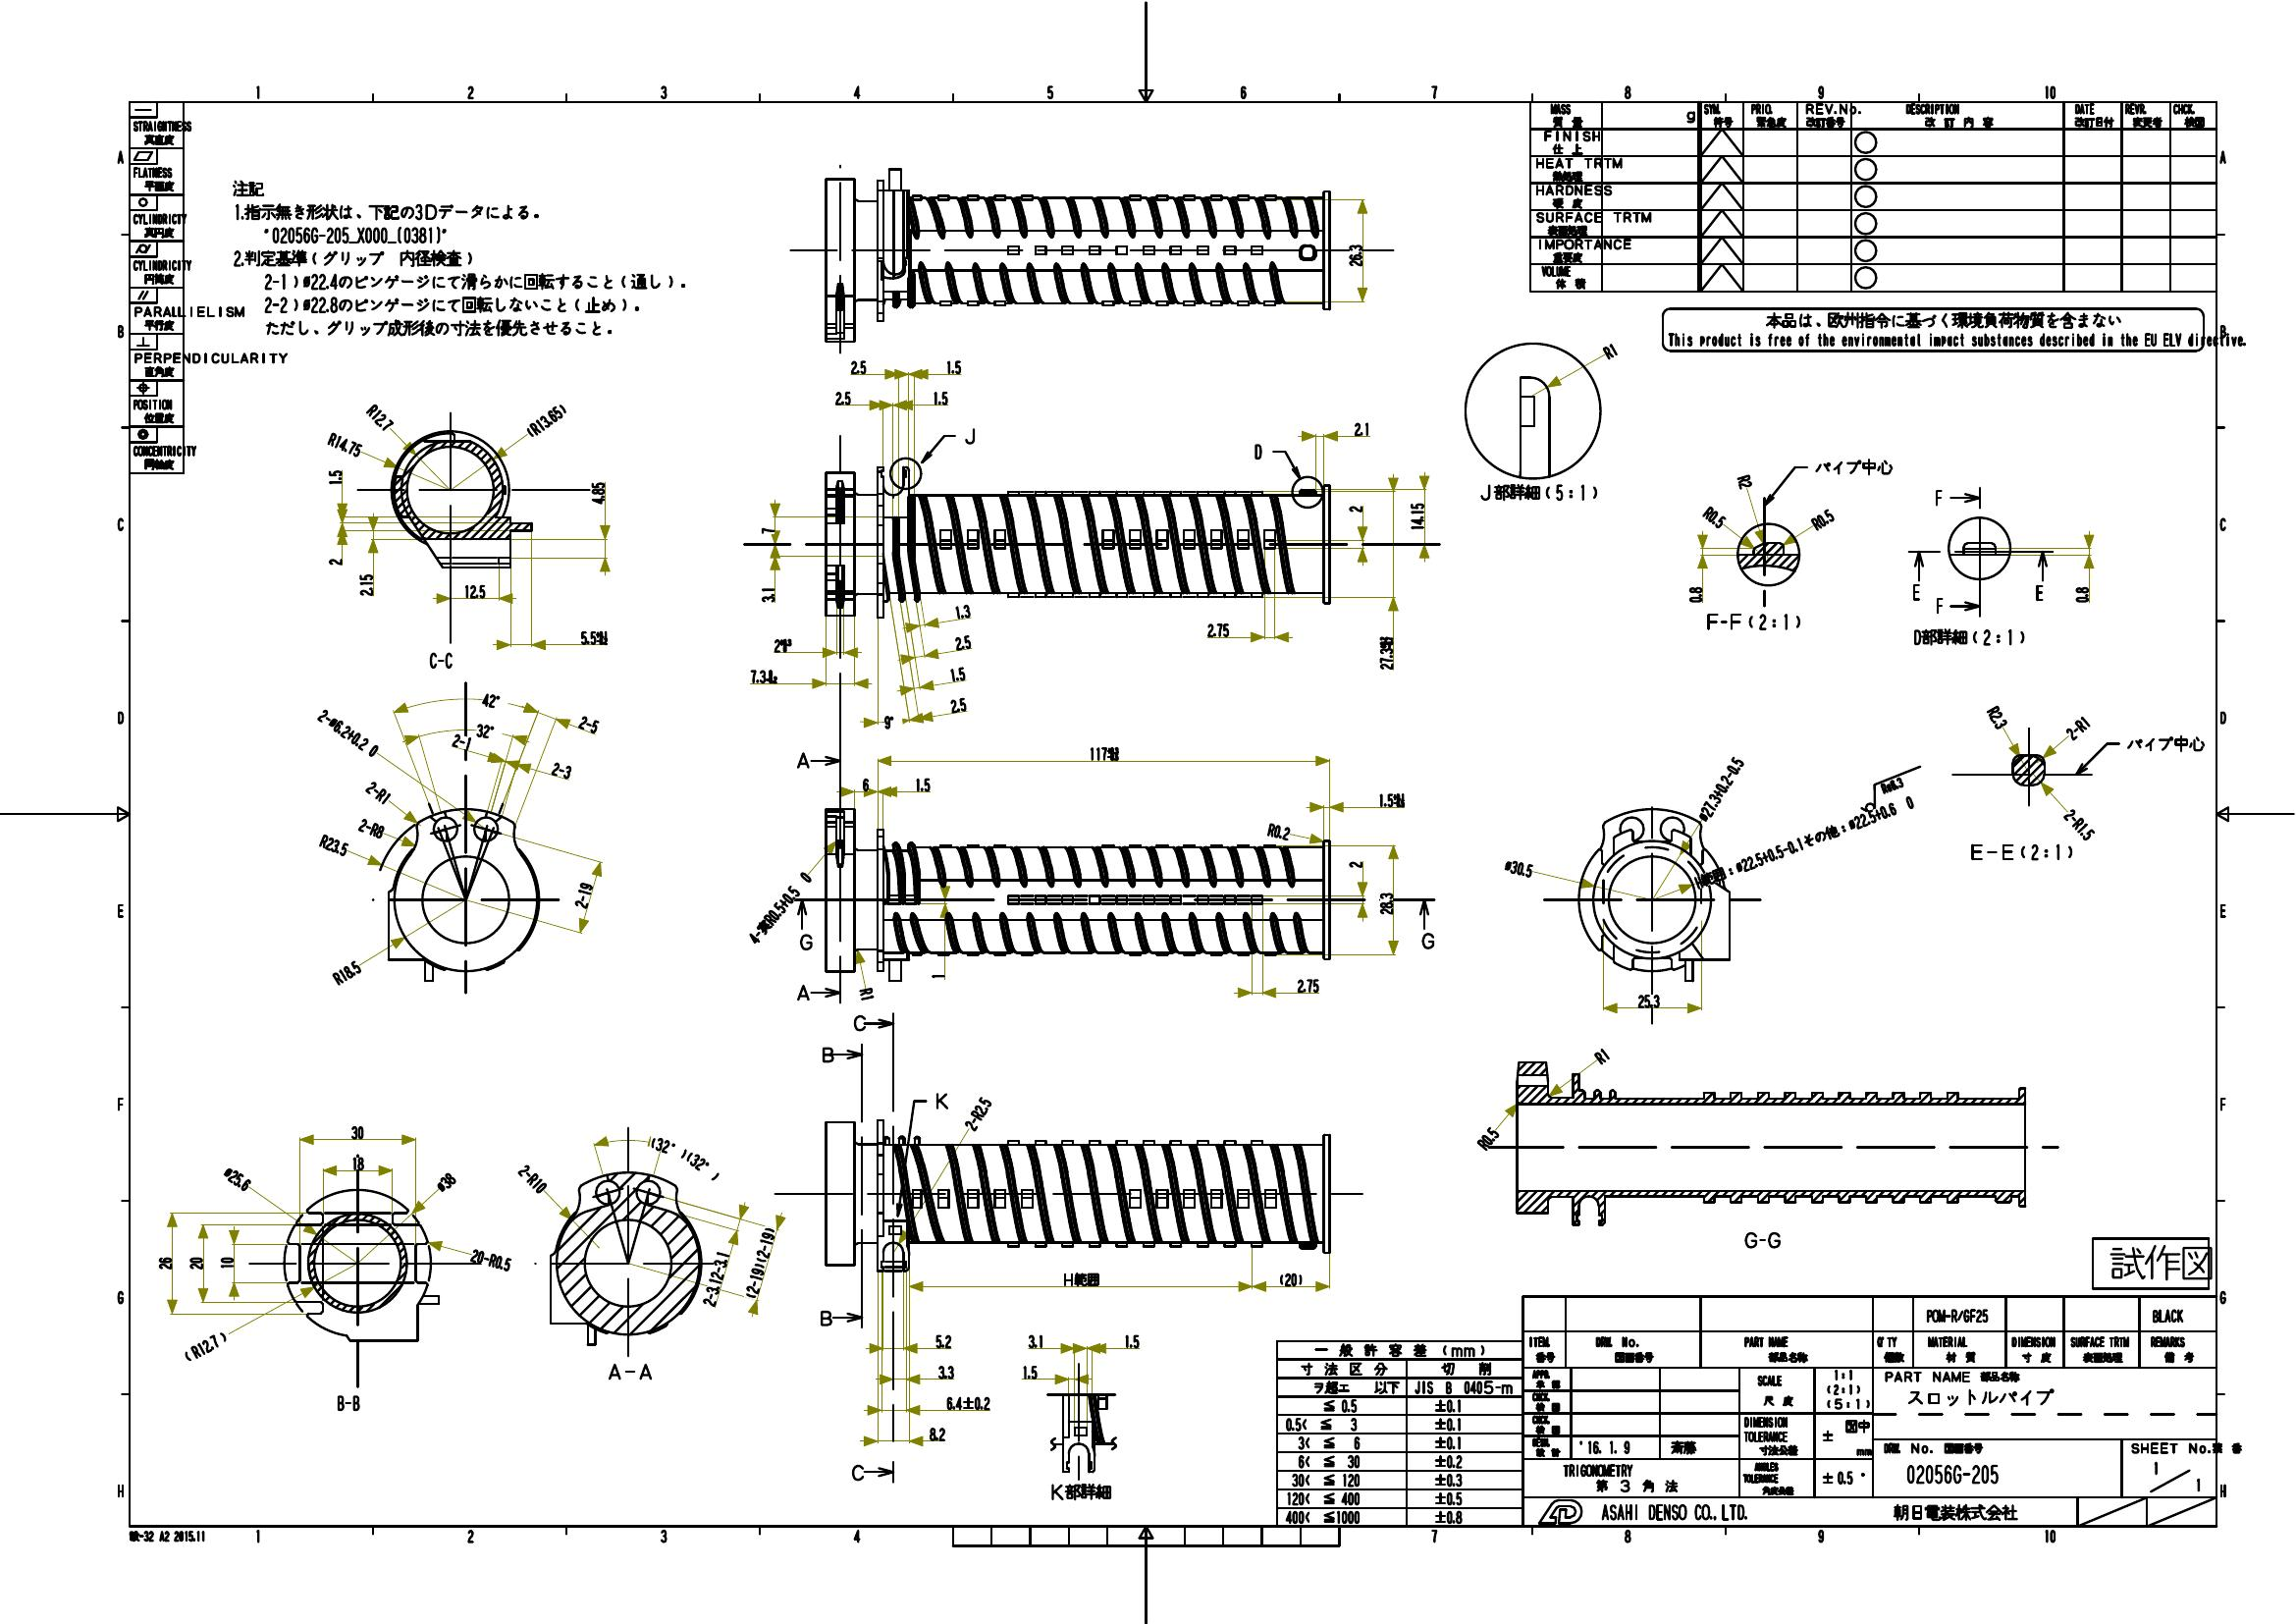anntotation_text: (230, 176, 687, 341), (1662, 309, 2203, 353), (2092, 1236, 2210, 1290), (1476, 482, 1600, 504), (1966, 840, 2073, 865), (1913, 626, 2025, 647), (1704, 610, 1804, 633), (1815, 457, 1897, 480), (2124, 735, 2208, 752), (128, 1527, 207, 1543), (1049, 1483, 1112, 1503), (606, 1362, 655, 1381), (1741, 1229, 1783, 1250), (1692, 868, 1736, 884), (1802, 826, 1846, 840), (1063, 1271, 1101, 1287), (427, 650, 457, 670), (1245, 441, 1268, 464), (336, 1394, 360, 1411), (792, 750, 812, 772), (1908, 580, 1924, 605), (1418, 930, 1437, 949), (798, 932, 815, 951), (792, 984, 812, 1002), (933, 1090, 949, 1111), (963, 427, 978, 446), (850, 1014, 866, 1032), (2031, 584, 2047, 601), (819, 1308, 833, 1327), (850, 1462, 864, 1482), (1932, 485, 1943, 508), (820, 1046, 834, 1062), (1931, 598, 1945, 613)
dimension_text: (1838, 779, 1932, 817), (734, 898, 824, 916), (645, 1146, 724, 1165), (1713, 750, 1730, 826), (754, 1227, 768, 1301), (1730, 849, 1802, 863), (313, 726, 383, 740), (708, 1250, 722, 1308), (179, 1339, 230, 1353), (471, 1251, 515, 1267), (945, 1396, 991, 1410), (523, 413, 569, 427), (970, 1093, 984, 1134), (1377, 634, 1393, 670), (364, 408, 395, 425), (1087, 747, 1121, 763), (578, 629, 611, 645), (2061, 817, 2097, 831), (748, 668, 780, 684), (515, 1174, 550, 1188), (327, 438, 362, 452), (1295, 977, 1323, 993), (1409, 501, 1423, 531), (362, 786, 392, 800), (1377, 889, 1393, 916), (1205, 622, 1231, 638), (1347, 243, 1363, 269), (357, 819, 383, 835), (590, 480, 606, 506), (950, 633, 973, 650), (942, 357, 964, 374), (2064, 721, 2092, 735), (1504, 861, 1532, 875), (320, 838, 348, 852), (1279, 1271, 1303, 1287), (1265, 823, 1289, 838), (358, 573, 374, 598), (462, 582, 487, 598), (1700, 510, 1727, 524), (1379, 793, 1405, 807), (947, 664, 968, 682), (223, 1172, 249, 1186), (332, 967, 362, 979), (1474, 1132, 1498, 1146), (1635, 993, 1660, 1007), (926, 1425, 947, 1441), (1989, 707, 2004, 728), (952, 603, 973, 619), (947, 696, 968, 712), (848, 359, 870, 374), (436, 1174, 457, 1190), (578, 882, 590, 909), (578, 717, 601, 731), (933, 1332, 950, 1350), (155, 1255, 174, 1271), (833, 390, 854, 404), (450, 735, 471, 749), (1811, 513, 1834, 526), (550, 765, 573, 777), (1026, 1334, 1043, 1350), (1022, 1362, 1038, 1380), (1124, 1334, 1142, 1350), (1602, 341, 1618, 359), (476, 722, 494, 738), (936, 1364, 956, 1378), (2075, 585, 2089, 605), (773, 638, 792, 652), (931, 390, 950, 404), (1736, 473, 1751, 489), (859, 986, 875, 1002), (188, 1255, 204, 1271), (1353, 422, 1370, 436), (481, 692, 499, 707), (915, 777, 931, 791), (759, 587, 775, 601), (351, 1153, 365, 1169), (348, 1125, 364, 1139), (1688, 585, 1700, 603), (329, 469, 341, 487), (1593, 1049, 1609, 1062), (1347, 858, 1363, 870), (220, 1257, 235, 1269), (859, 777, 871, 791), (1347, 503, 1363, 513), (882, 714, 892, 729), (761, 524, 773, 536), (327, 555, 341, 566), (929, 972, 945, 981)
object: (824, 169, 1332, 343), (824, 807, 1330, 972), (1514, 1062, 2025, 1225), (826, 466, 1330, 617), (826, 1120, 1330, 1271), (1578, 807, 1730, 982), (379, 807, 536, 974), (552, 1171, 701, 1345), (281, 1190, 439, 1341), (390, 431, 532, 569), (1049, 1394, 1117, 1475), (1518, 374, 1551, 480), (1736, 541, 1801, 573), (2011, 752, 2045, 784), (1950, 541, 2011, 555)
title_block: (1275, 1295, 2219, 1522), (1532, 102, 2219, 292), (128, 98, 186, 475)
